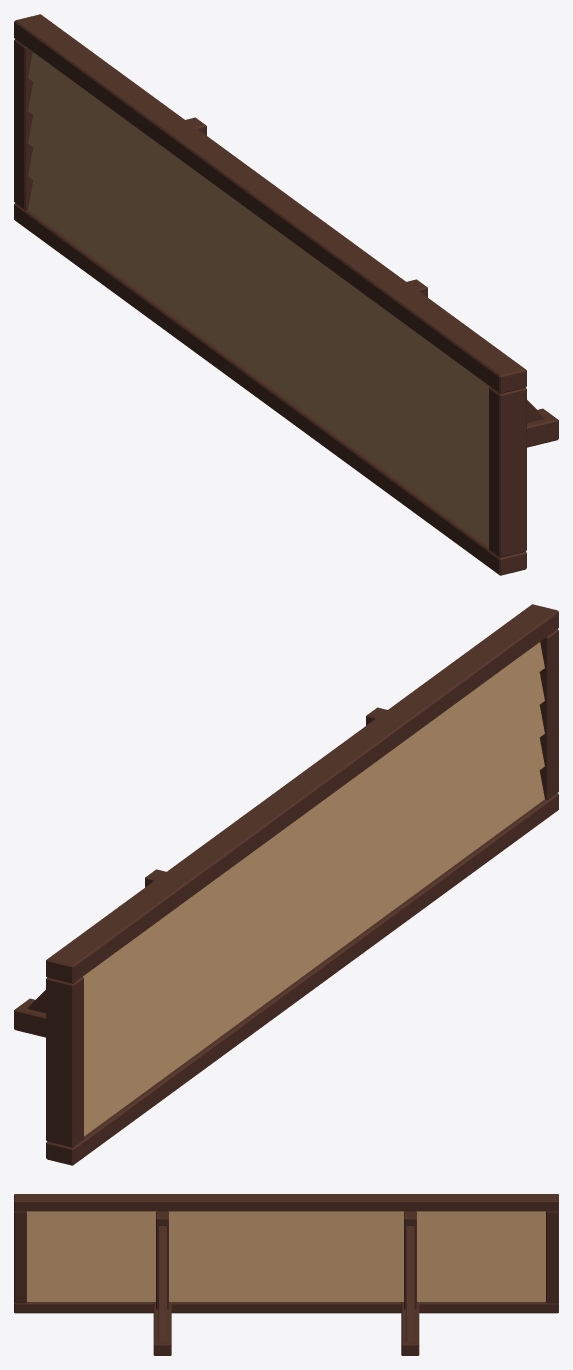
Rendered from sign-a.glb.
3 renders of one model, top to bottom at view 1: azimuth 30°, elevation 25°; view 2: azimuth 150°, elevation 25°; view 3: azimuth 270°, elevation 25°, orthographic. The views are drawn at different scales.
Visible parts, largest first — view 1: Sign A (×2); view 2: Sign A (×2); view 3: Sign A (×2).
Boxes of the visible parts, box(x1,y1,x2,y2) form: Sign A (×2): box(14, 14, 558, 575); Sign A (×2): box(14, 604, 558, 1165); Sign A (×2): box(14, 1194, 558, 1355).
Bounding box in the file's own units: 1.45 × 1.5 × 6.6.
